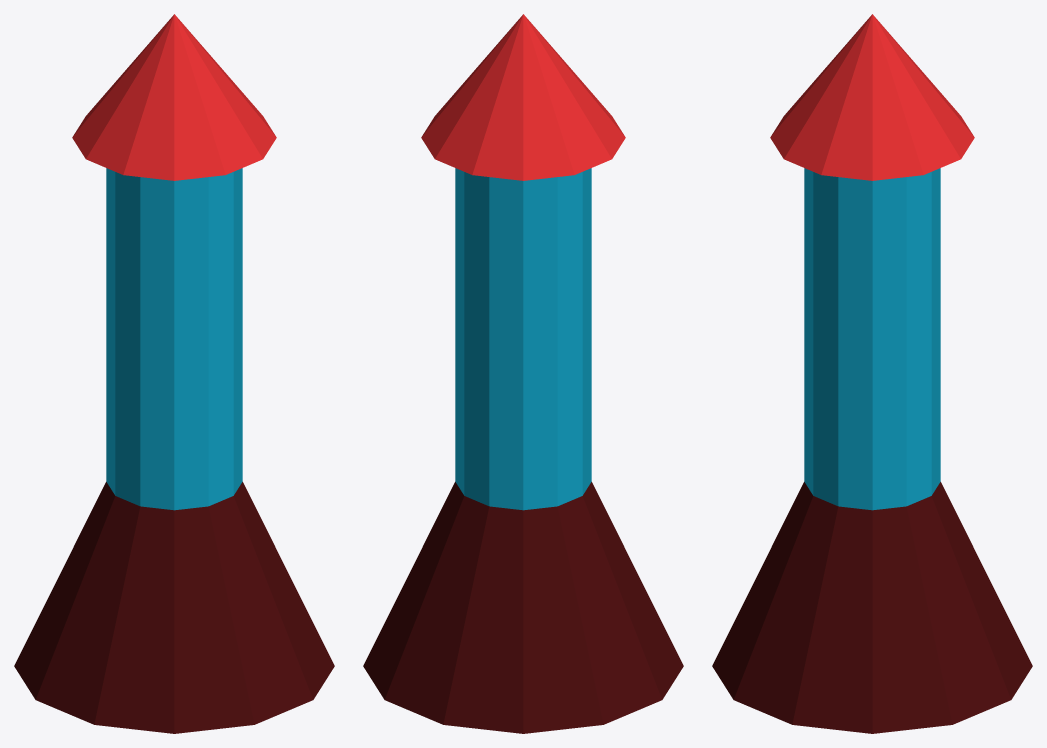
The model's file is missle.fbx.
The picture shows the model from 3 angles, left to right: view 1: azimuth 30°, elevation 25°; view 2: azimuth 150°, elevation 25°; view 3: azimuth 270°, elevation 25°; orthographic projection.
Parts seen in each view (by area): view 1: Cone.001; view 2: Cone.001; view 3: Cone.001.
Part boxes in pixels (x1=…): Cone.001: x1=14, y1=14, x2=334, y2=733; Cone.001: x1=363, y1=14, x2=683, y2=733; Cone.001: x1=712, y1=14, x2=1032, y2=733.
Size of the model in its own units: 470 by 1055 by 470.
